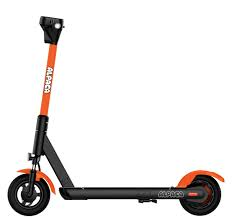kick_board: (9, 16, 224, 215)
kick_body: (73, 187, 178, 199)
kick_handler: (39, 17, 64, 43)
kick_neck: (38, 46, 56, 153)
kick_wheel: (9, 169, 54, 216), (180, 171, 224, 215)
